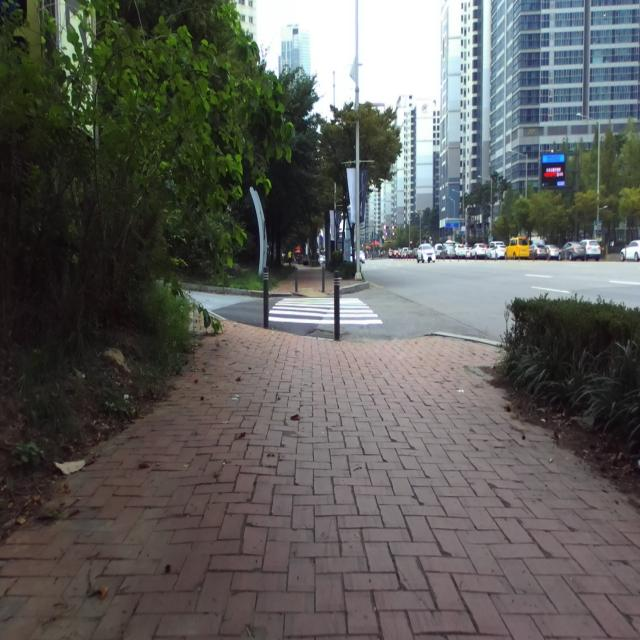횡단보도: (268, 297, 384, 325)
